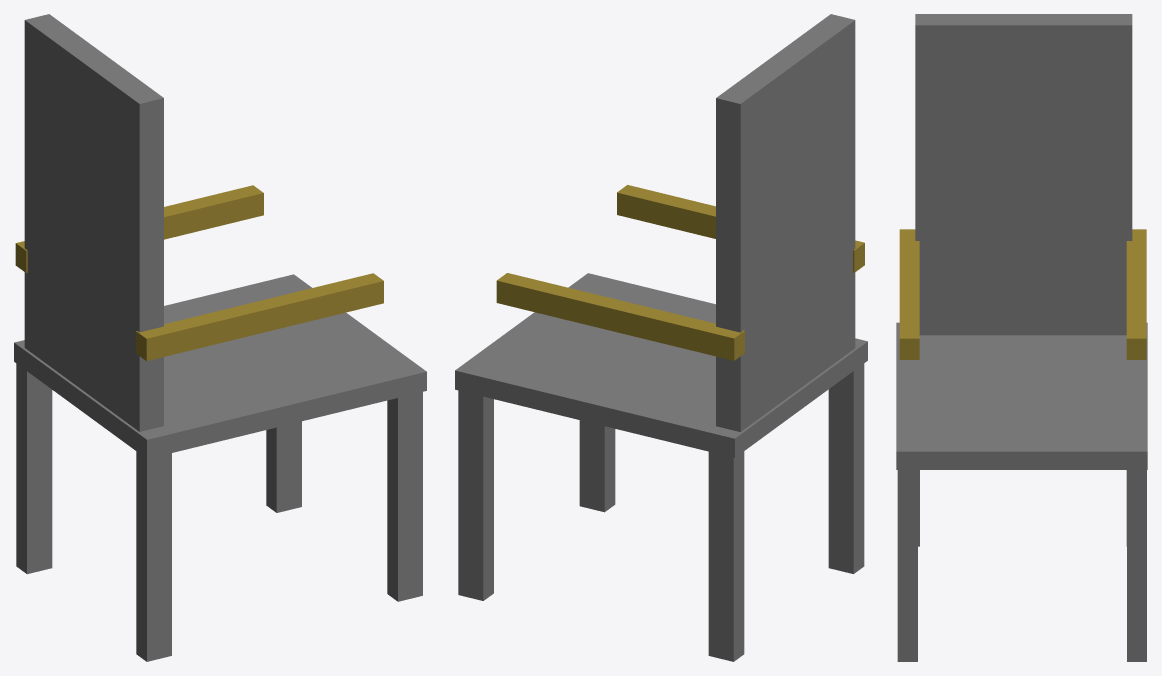
The model's file is Chairs_Office.FBX.
The picture shows the model from 3 angles, left to right: view 1: azimuth 30°, elevation 25°; view 2: azimuth 150°, elevation 25°; view 3: azimuth 270°, elevation 25°; orthographic projection. The views are drawn at different scales.
Visible parts, largest first — view 1: Chair_001; view 2: Chair_001; view 3: Chair_001.
Boxes of the visible parts, box(x1,y1,x2,y2) form: Chair_001: box(14, 14, 426, 661); Chair_001: box(455, 14, 867, 661); Chair_001: box(896, 14, 1147, 661).
Bounding box in the file's own units: 55.76 × 105 × 45.92.
